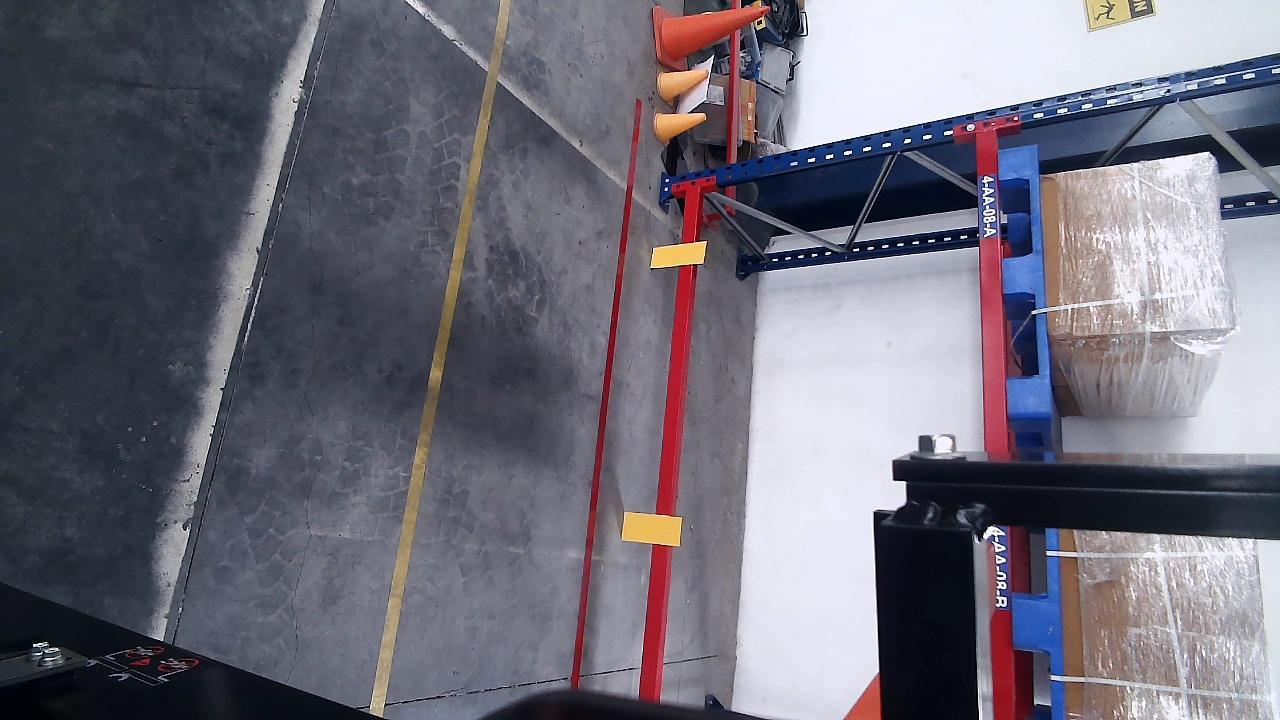h_rack: (641, 186, 696, 701), (971, 131, 1008, 451)
orange_strip: (622, 511, 681, 542), (651, 239, 706, 268)
red_line: (570, 99, 643, 686)
small_pallet: (1001, 142, 1051, 415)
yellow_line: (367, 1, 510, 714)
